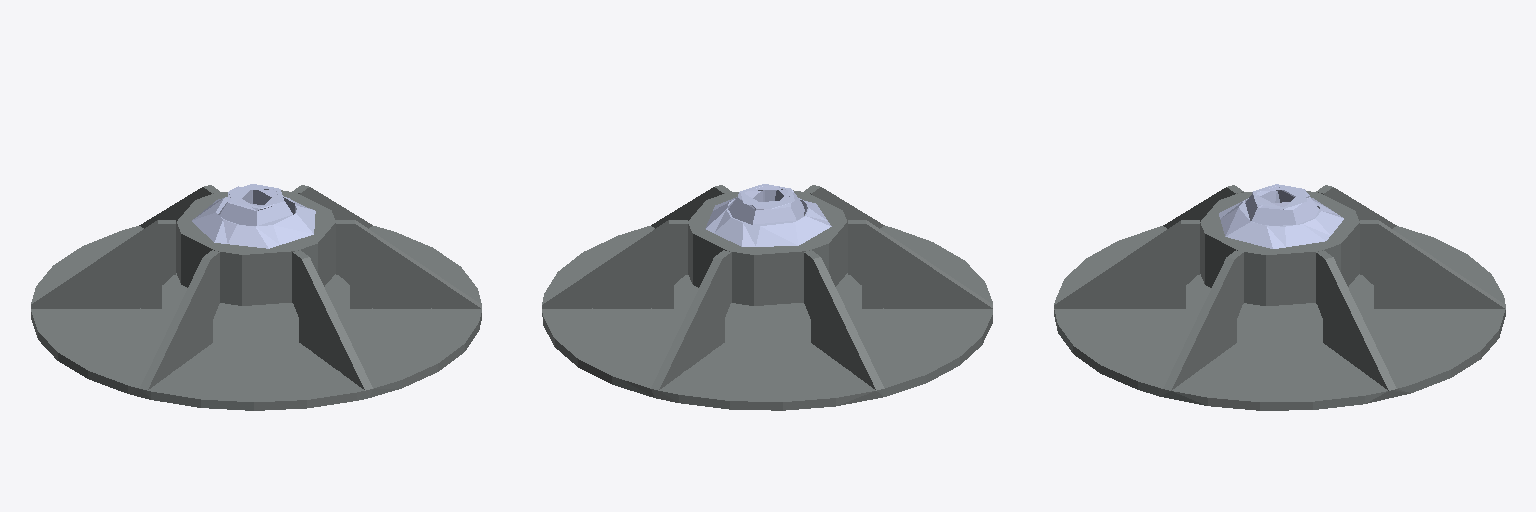
Rendered from Foot.obj.
3 renders of one model, left to right at view 1: azimuth 30°, elevation 25°; view 2: azimuth 150°, elevation 25°; view 3: azimuth 270°, elevation 25°, orthographic.
Parts seen in each view (by area): view 1: mesh 2 Surface-Imported3, mesh 1; view 2: mesh 2 Surface-Imported3, mesh 1; view 3: mesh 2 Surface-Imported3, mesh 1.
Part boxes in pixels (bbox=[...]): mesh 2 Surface-Imported3: bbox=[31, 185, 481, 410]; mesh 1: bbox=[192, 184, 315, 248]; mesh 2 Surface-Imported3: bbox=[542, 185, 992, 410]; mesh 1: bbox=[705, 184, 831, 246]; mesh 2 Surface-Imported3: bbox=[1054, 185, 1505, 410]; mesh 1: bbox=[1219, 184, 1343, 248].
Size of the model in its own units: 0.0077 by 0.0023 by 0.0077.